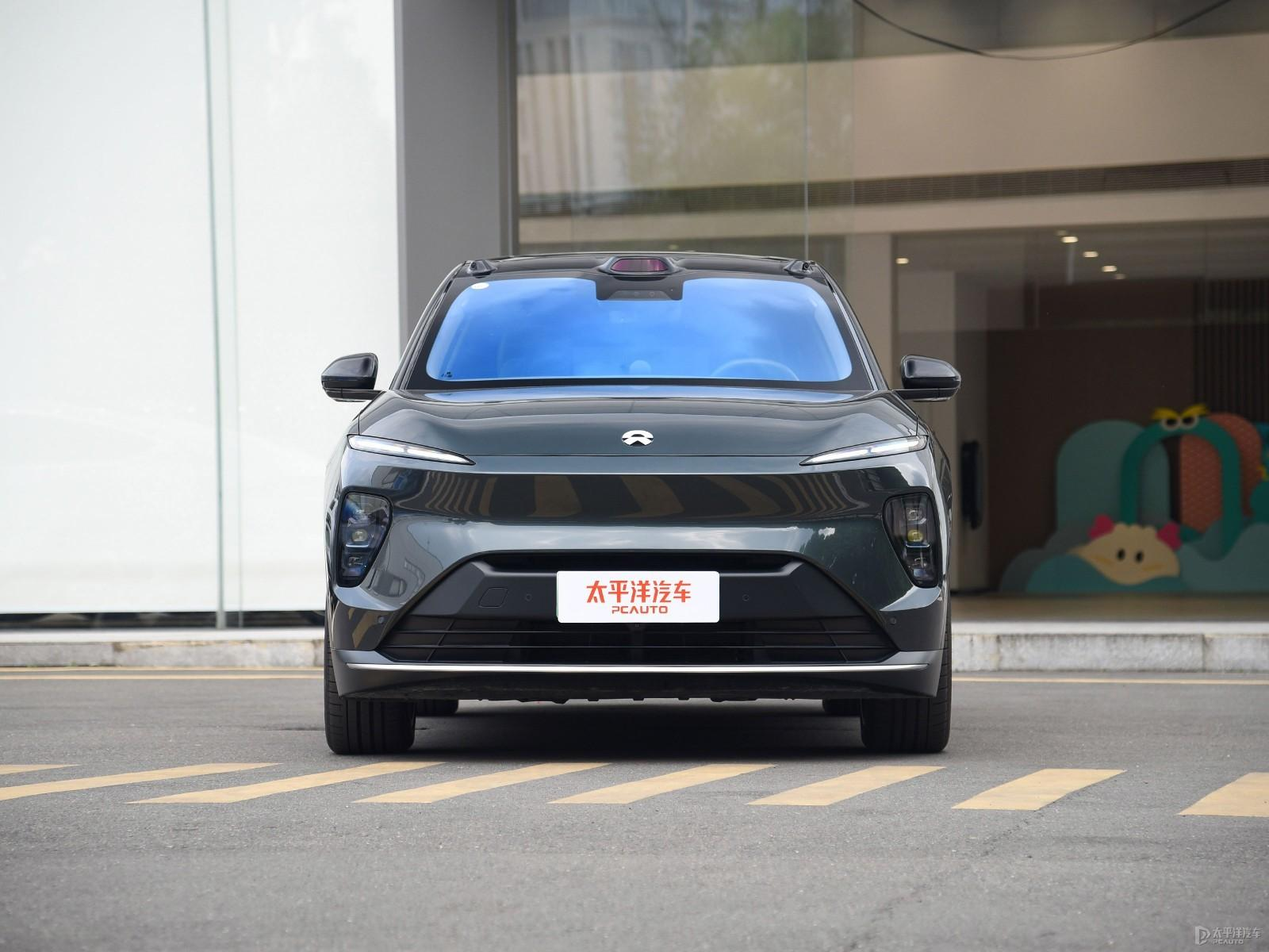NIO: (622, 430, 654, 446)
